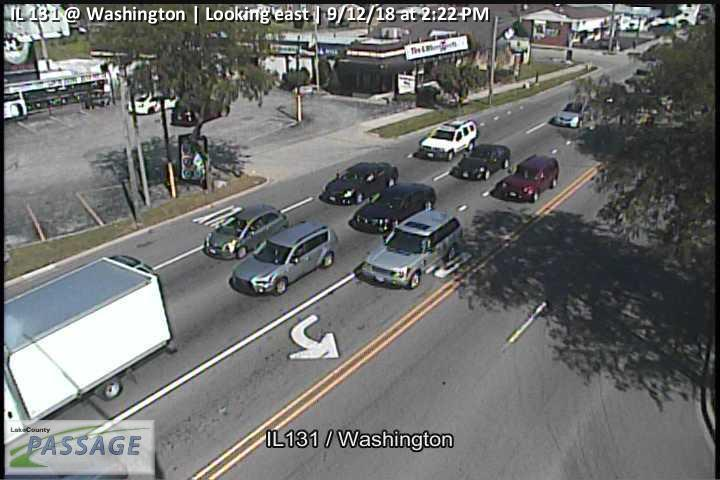SUV: (230, 219, 340, 299), (361, 209, 465, 290), (418, 118, 477, 160)
Sedan: (201, 203, 291, 258), (351, 182, 436, 232), (321, 161, 399, 205), (494, 155, 558, 203), (456, 142, 512, 180), (171, 97, 230, 127), (553, 99, 595, 128), (128, 91, 182, 113)
